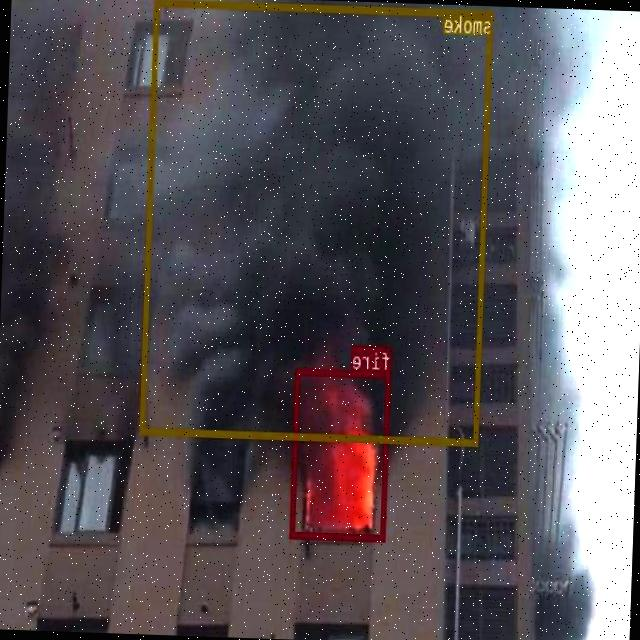fire: (290, 368, 392, 540)
smoke: (141, 0, 494, 444)
